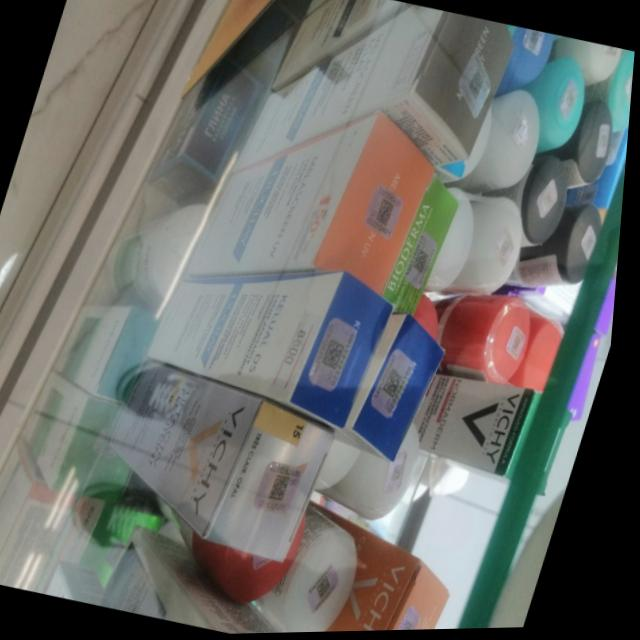datamatrix: (325, 340, 353, 374), (275, 474, 301, 505), (386, 370, 412, 401), (377, 201, 400, 229), (415, 251, 435, 277)
